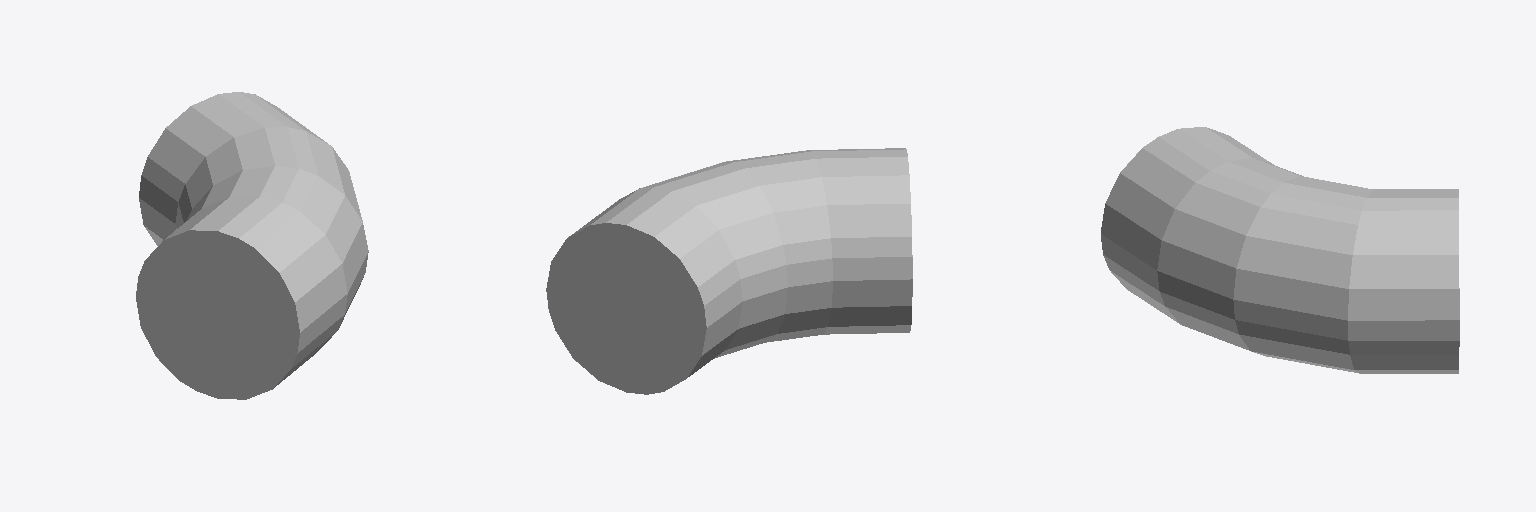
The model's file is elbow_45.obj.
3 views of the same model, side by side, from view 1: azimuth 30°, elevation 25°; view 2: azimuth 150°, elevation 25°; view 3: azimuth 270°, elevation 25° (orthographic).
Visible parts, largest first — view 1: __.1, ___2; view 2: __.1, ___1; view 3: __.1.
Boxes of the visible parts, x1,y1,x2,y2 form: __.1: [139, 92, 368, 388]; ___2: [136, 230, 299, 399]; __.1: [568, 148, 912, 376]; ___1: [546, 223, 706, 394]; __.1: [1101, 127, 1459, 373].
Bounding box in the file's own units: 130 × 78.61 × 153.